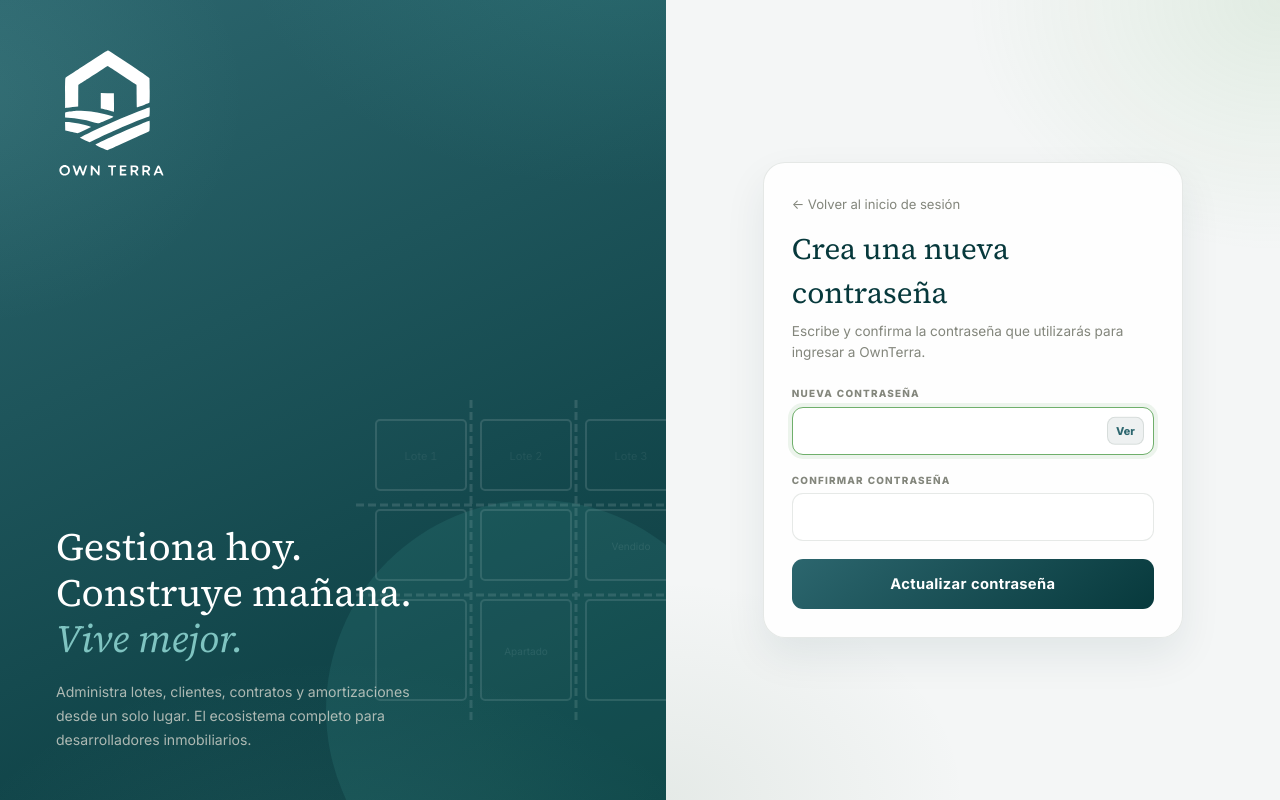
ResetPassword › valida que ambas contraseñas coincidan
The width and height of the screenshot is (1280, 800).
Type "Password123" into the password field labelled "Nueva contraseña" at (973, 431), box x1=792 y1=407 x2=1154 y2=455
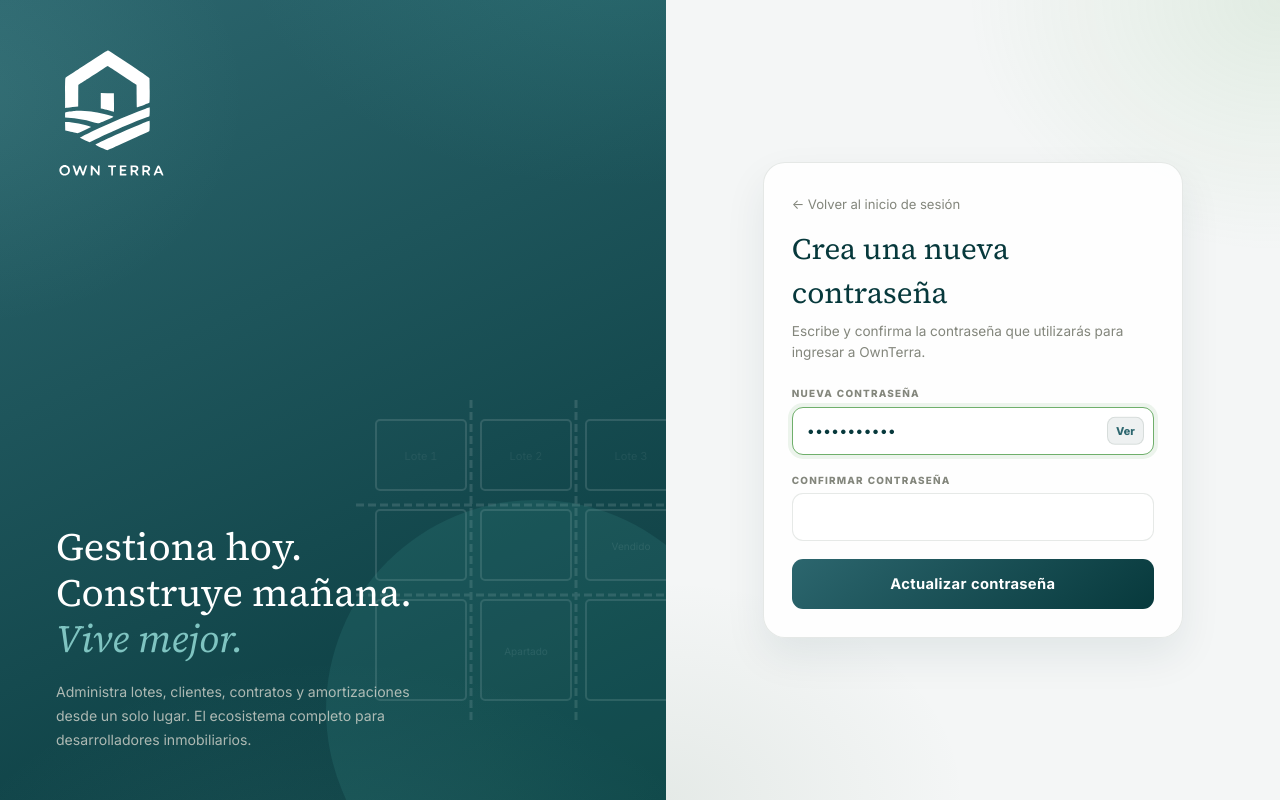
Type "Different123" into the password field labelled "Confirmar contraseña" at (973, 517), box x1=792 y1=494 x2=1154 y2=541
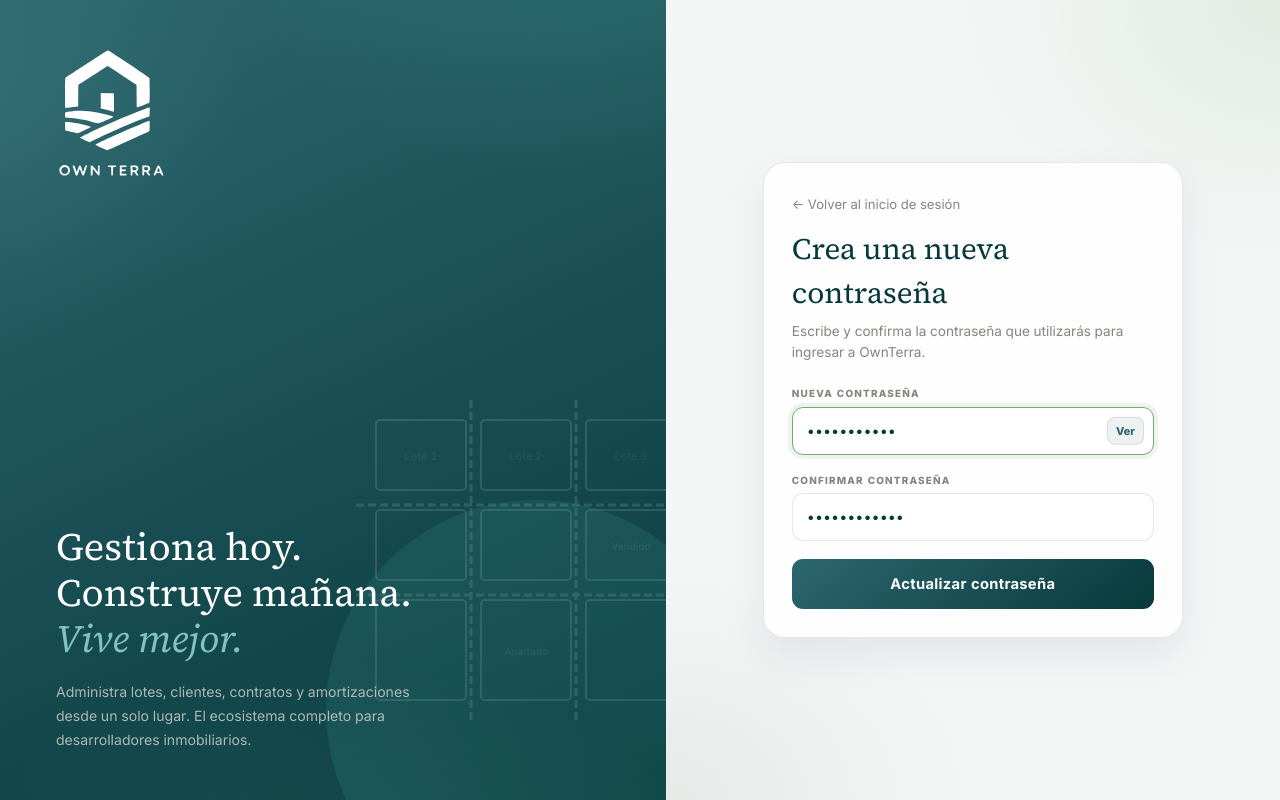
Click the button "Actualizar contraseña" at (973, 584), box x1=792 y1=559 x2=1154 y2=609
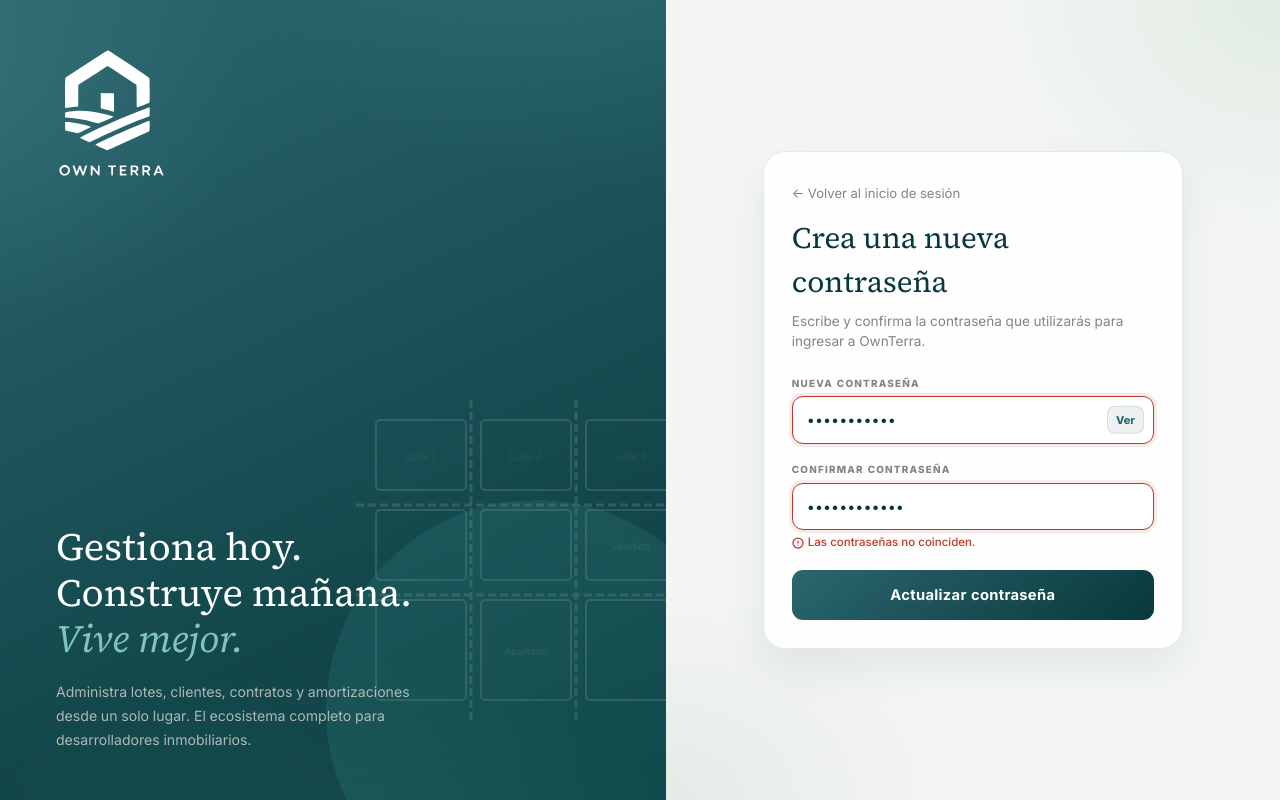
Expected: the text "Las contraseñas no coinciden." is shown, x1=792 y1=535 x2=975 y2=549
